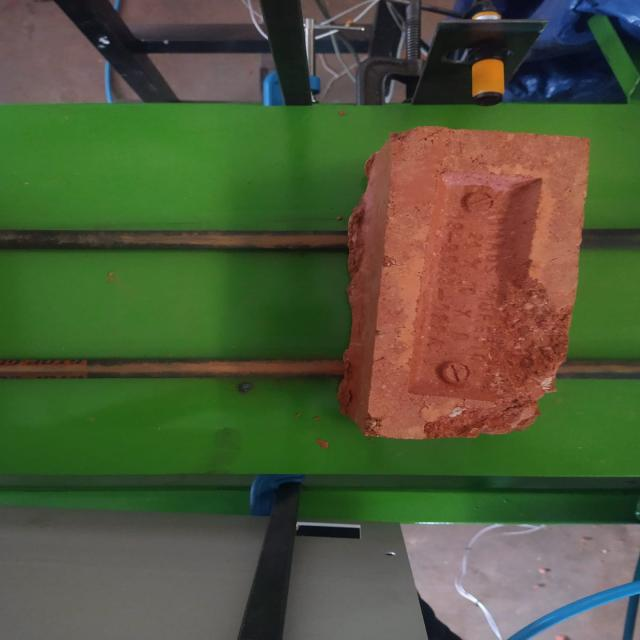bricks_ruin: (336, 129, 591, 442)
